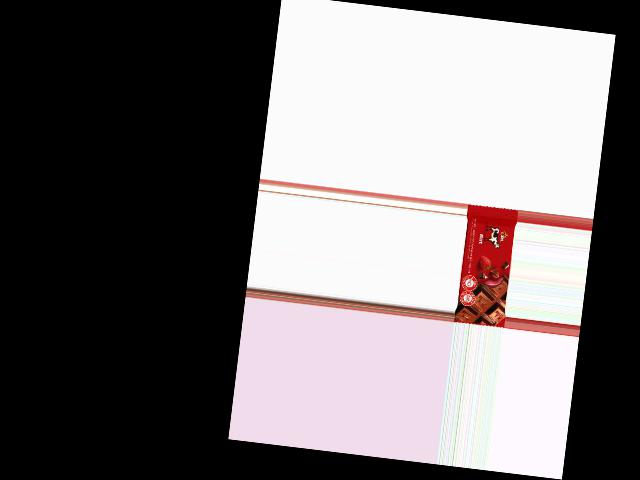chocolate: (453, 203, 517, 326)
